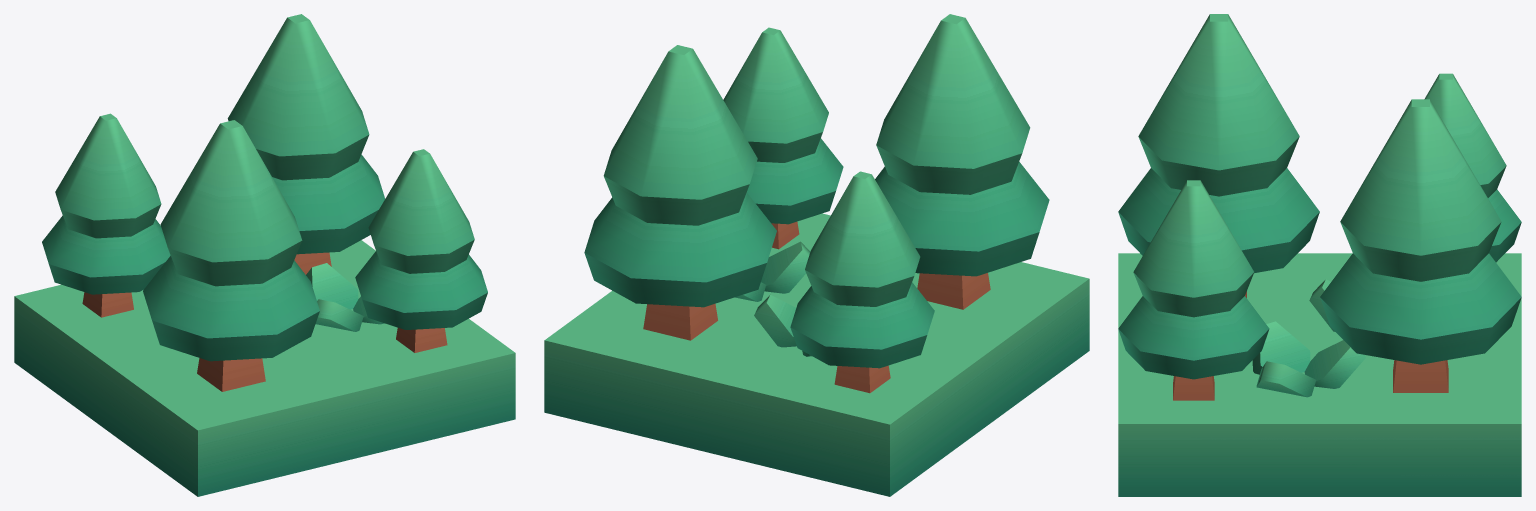
The model's file is kenney-tower-defense-tile-tree-quad.glb.
3 views of the same model, side by side, from view 1: azimuth 30°, elevation 25°; view 2: azimuth 150°, elevation 25°; view 3: azimuth 270°, elevation 25° (orthographic). The views are drawn at different scales.
Visible parts, largest first — view 1: tile-tree-quad; view 2: tile-tree-quad; view 3: tile-tree-quad.
Part boxes in pixels (bbox=[...]): tile-tree-quad: bbox=[14, 14, 515, 496]; tile-tree-quad: bbox=[544, 14, 1089, 496]; tile-tree-quad: bbox=[1118, 14, 1521, 496].
Size of the model in its own units: 1 by 0.96 by 1.
1 material, 1 textured.
